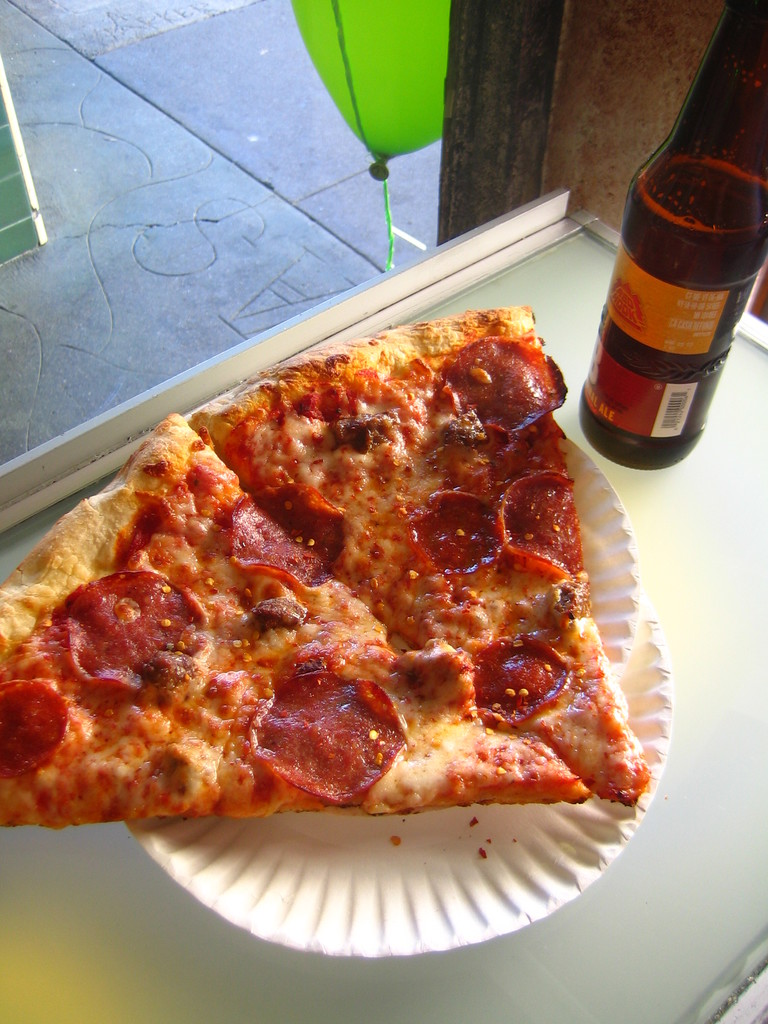Pizza: (28, 287, 657, 848)
